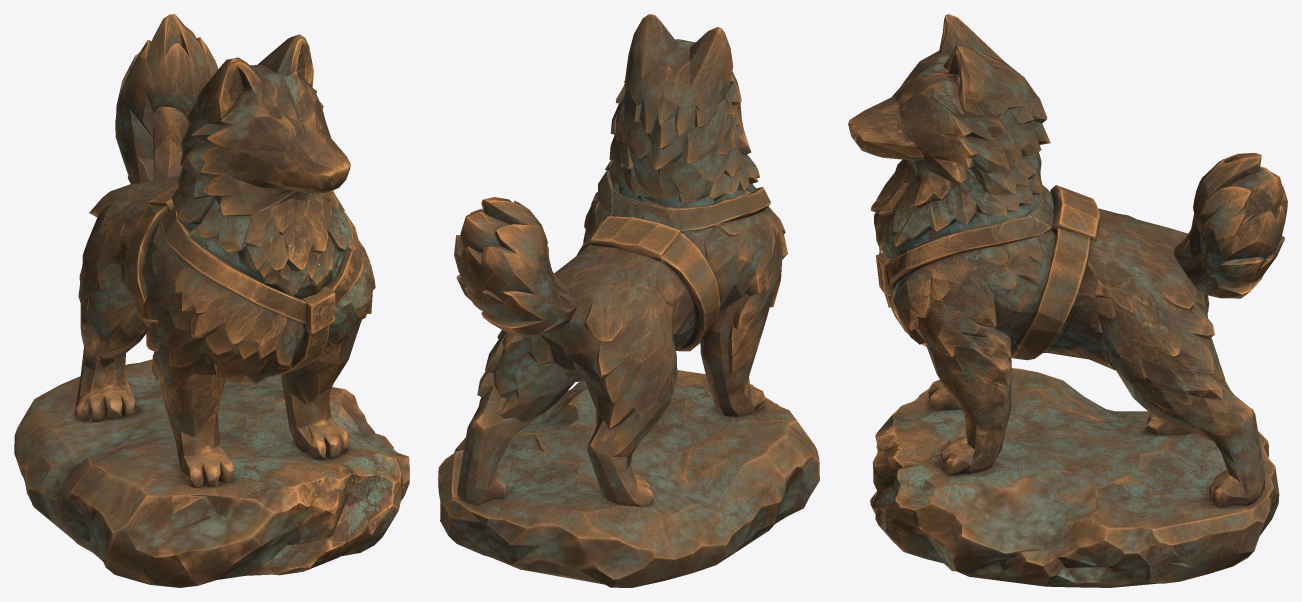
File: statue-sled-dog.glb
3 renders of one model, left to right at view 1: azimuth 30°, elevation 25°; view 2: azimuth 150°, elevation 25°; view 3: azimuth 270°, elevation 25°, orthographic. The views are drawn at different scales.
Size of the model in its own units: 1.36 by 2 by 1.64.
1 material, 1 textured.
